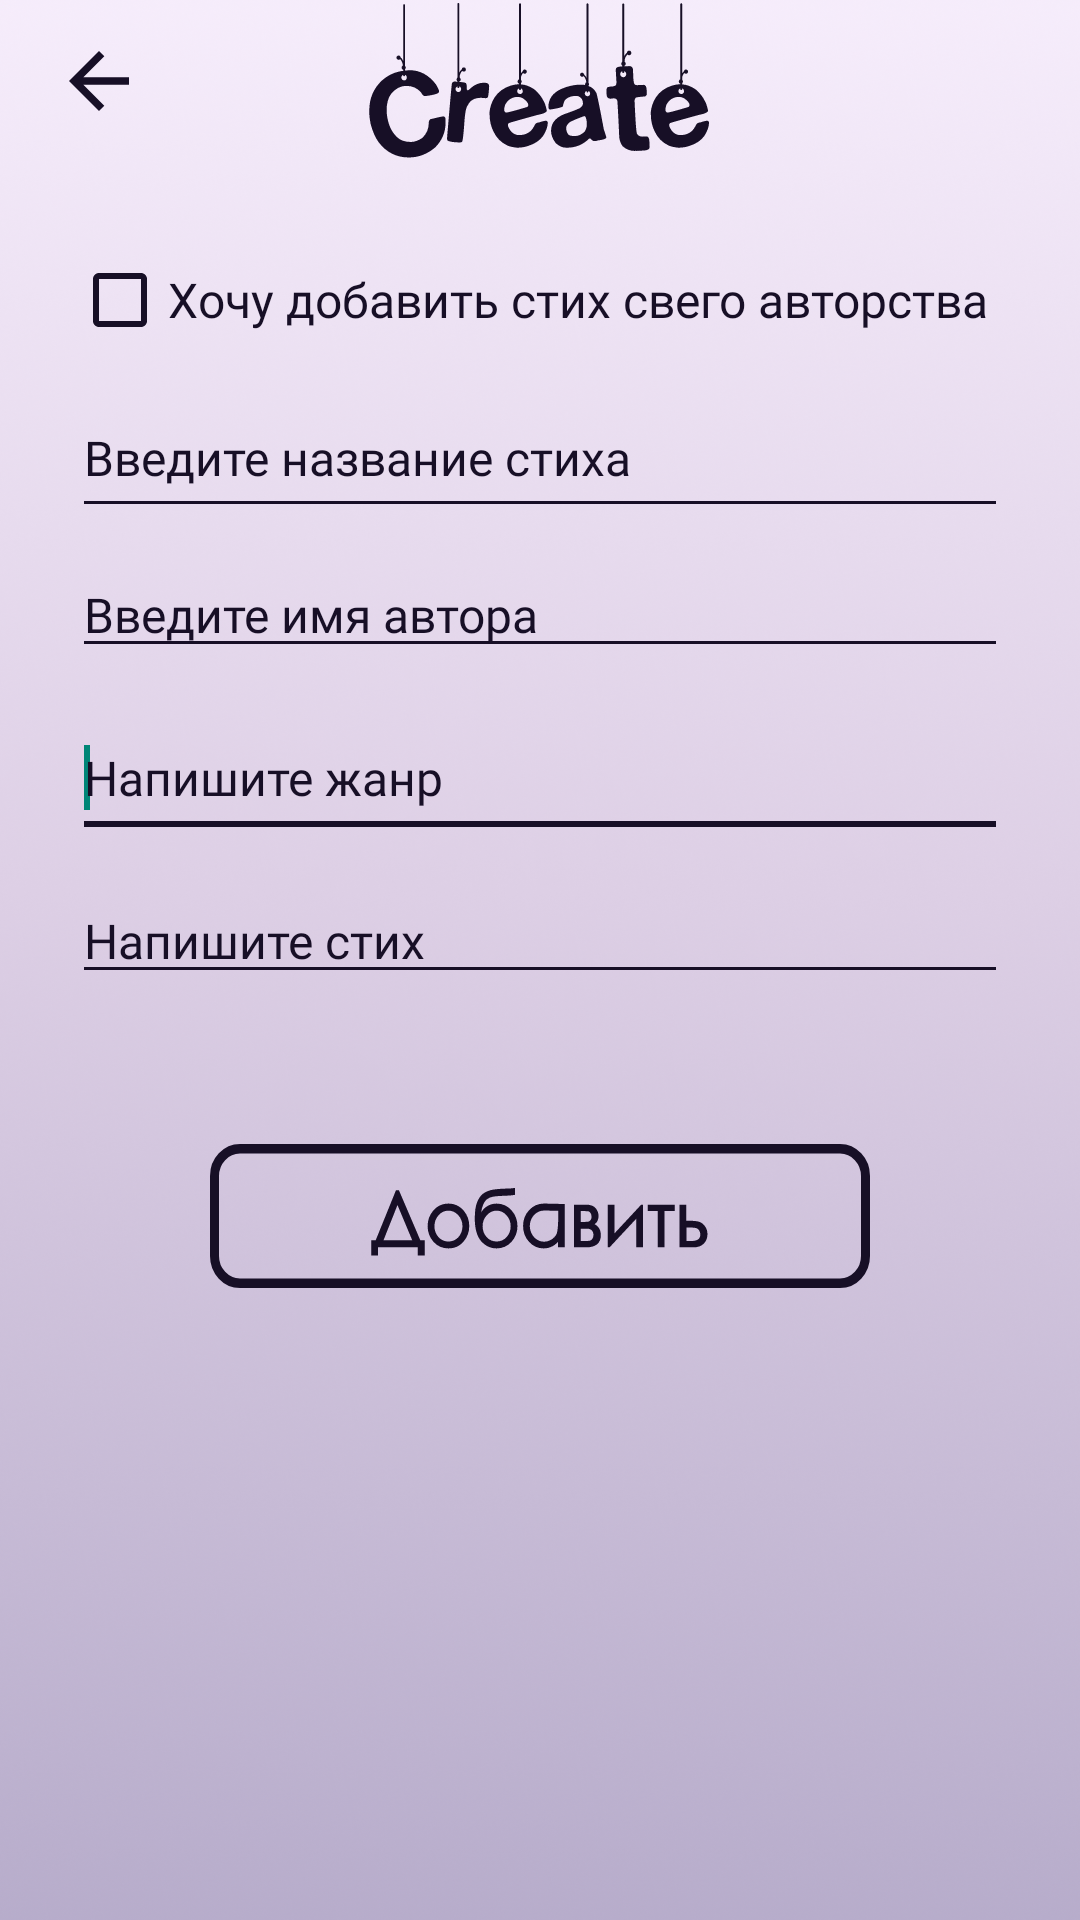

Locate icon controls on the screen. Image size 1080 × 1920, boxes as (x1, y1, x2, y2).
back: (69, 51, 129, 111)
